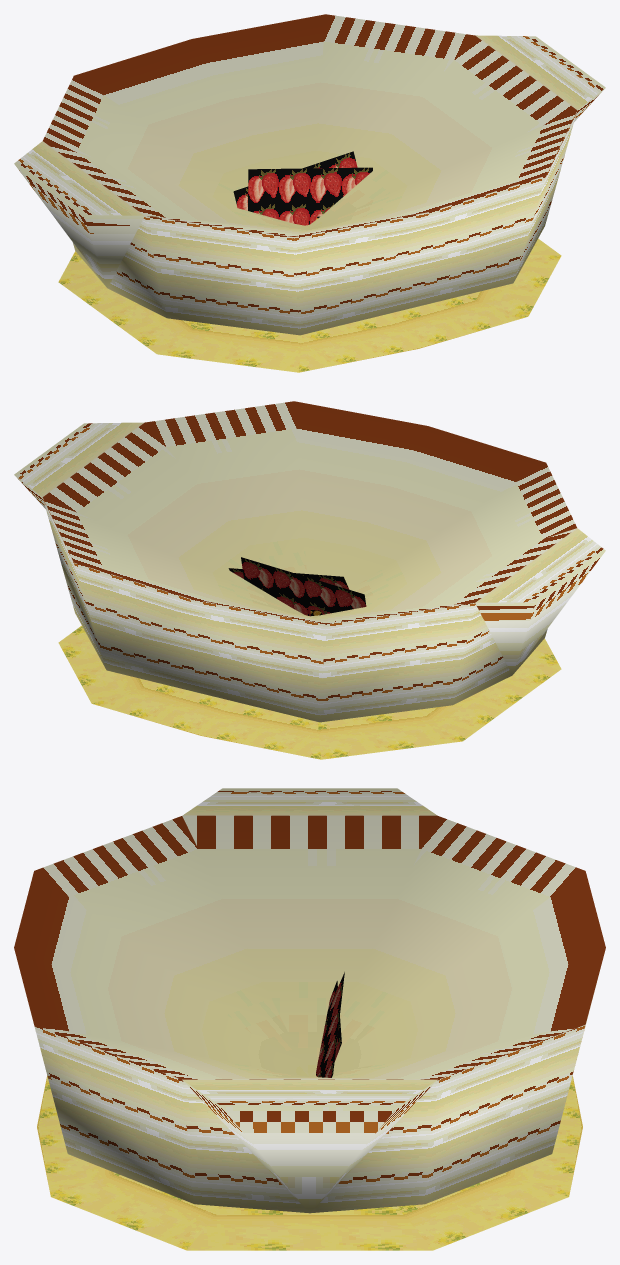
Rendered from 5503u_soup00_hs.gltf.
3 views of the same model, one above another, from view 1: azimuth 30°, elevation 25°; view 2: azimuth 150°, elevation 25°; view 3: azimuth 270°, elevation 25° (orthographic). The views are drawn at different scales.
Parts seen in each view (by area): view 1: 5503u_soup00_hs; view 2: 5503u_soup00_hs; view 3: 5503u_soup00_hs.
Boxes of the visible parts, bbox=[...] form: 5503u_soup00_hs: bbox=[14, 14, 605, 372]; 5503u_soup00_hs: bbox=[14, 401, 605, 759]; 5503u_soup00_hs: bbox=[14, 788, 605, 1250].
Bounding box in the file's own units: 0.7324 × 0.2476 × 0.5752.
Materials: 4 (4 with a texture image).
